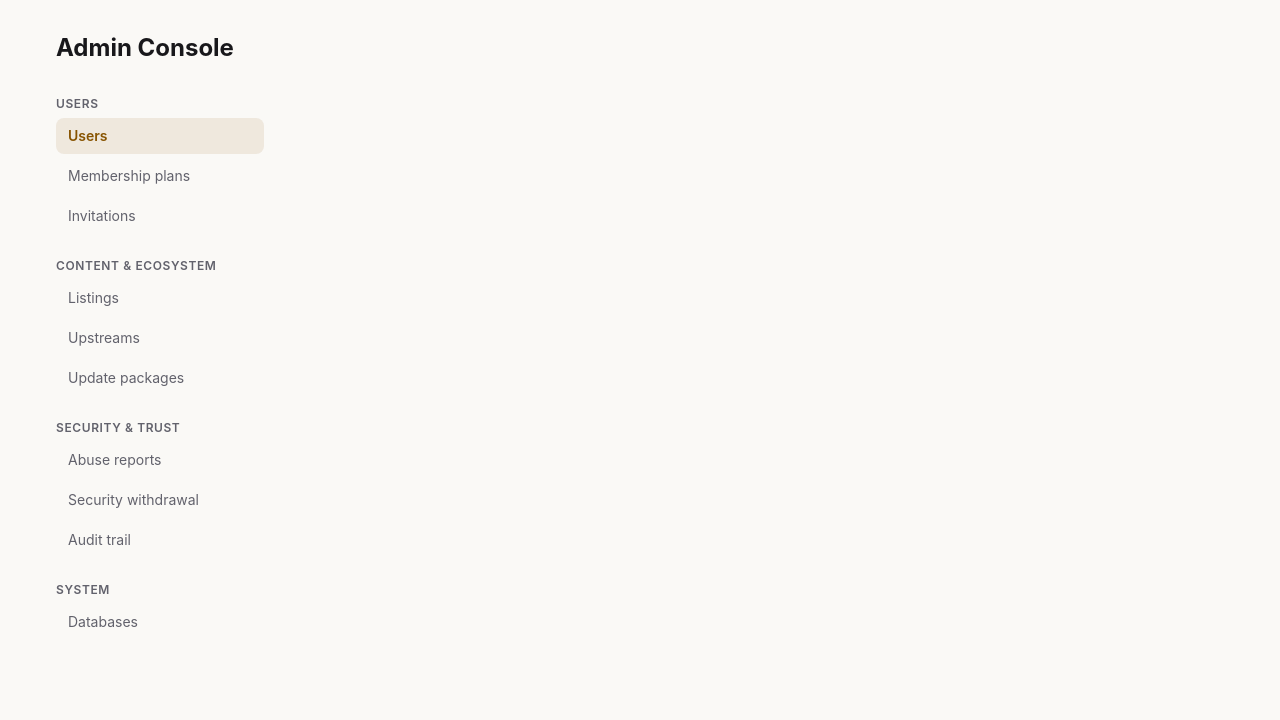
Test: AdminView invitation console (管理 · 邀请码) › issues unlimited codes and surfaces the last one
This screenshot has width=1280, height=720.
Click the tab "Invitations". click: {"x": 160, "y": 216}
box: [56,198,264,234]
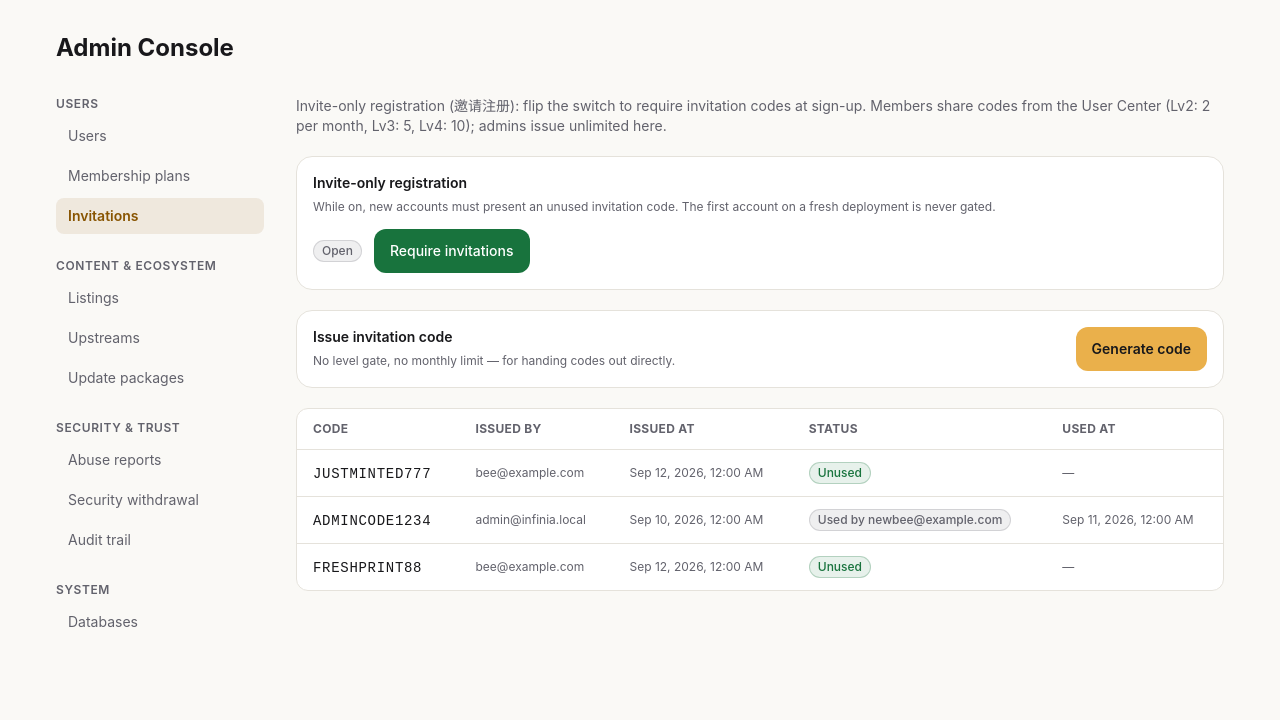
Result: the element with test id "registration-policy-card" is shown at [296,156,1224,290]
Click the button with test id "admin-issue-invitation". click: {"x": 1141, "y": 349}
box: [1076,327,1207,371]
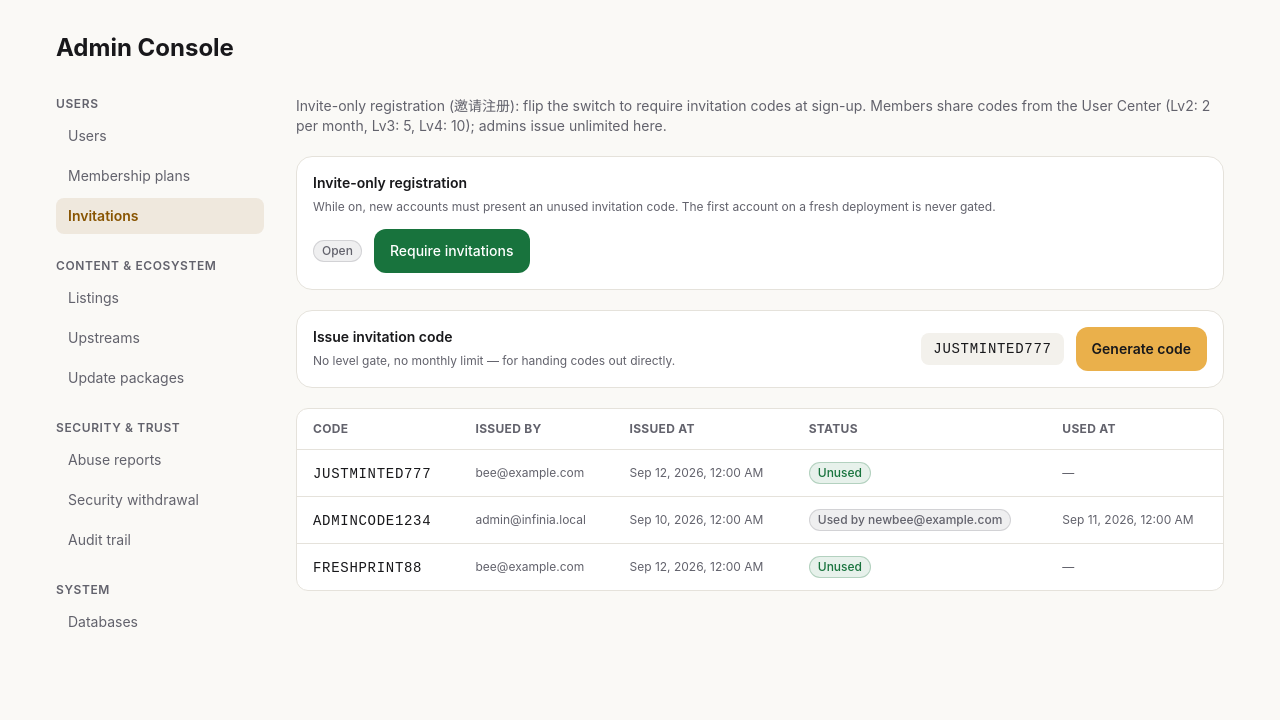
Result: the text "JUSTMINTED777" is shown at [921,333,1064,365]
Result: the text with test id "last-issued-code" reads "JUSTMINTED777" at [933,341,1052,357]
